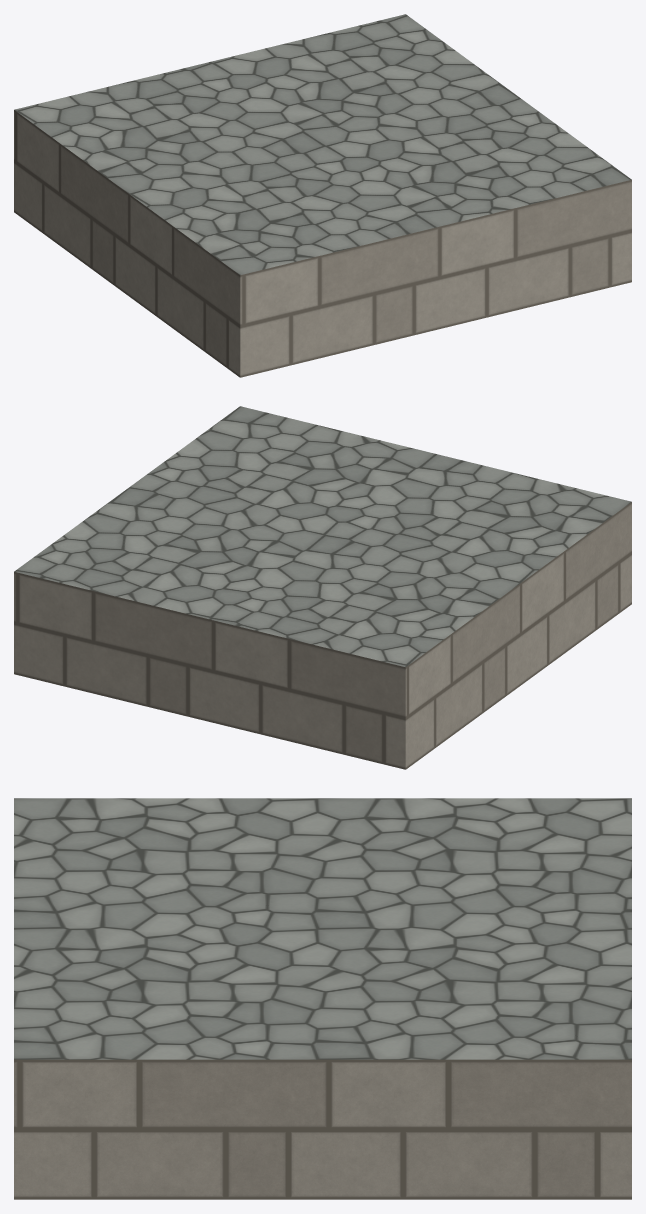
File: Ground_Cobble_L.fbx
The picture shows the model from 3 angles, top to bottom: view 1: azimuth 30°, elevation 25°; view 2: azimuth 150°, elevation 25°; view 3: azimuth 270°, elevation 25°; orthographic projection. The views are drawn at different scales.
Parts seen in each view (by area): view 1: Ground_Cobble_L; view 2: Ground_Cobble_L; view 3: Ground_Cobble_L.
Part boxes in pixels (bbox=[...]): Ground_Cobble_L: bbox=[14, 14, 631, 377]; Ground_Cobble_L: bbox=[14, 406, 631, 769]; Ground_Cobble_L: bbox=[14, 798, 631, 1199].
Size of the model in its own units: 3 by 0.75 by 3.
Materials: 2 (2 with a texture image).
